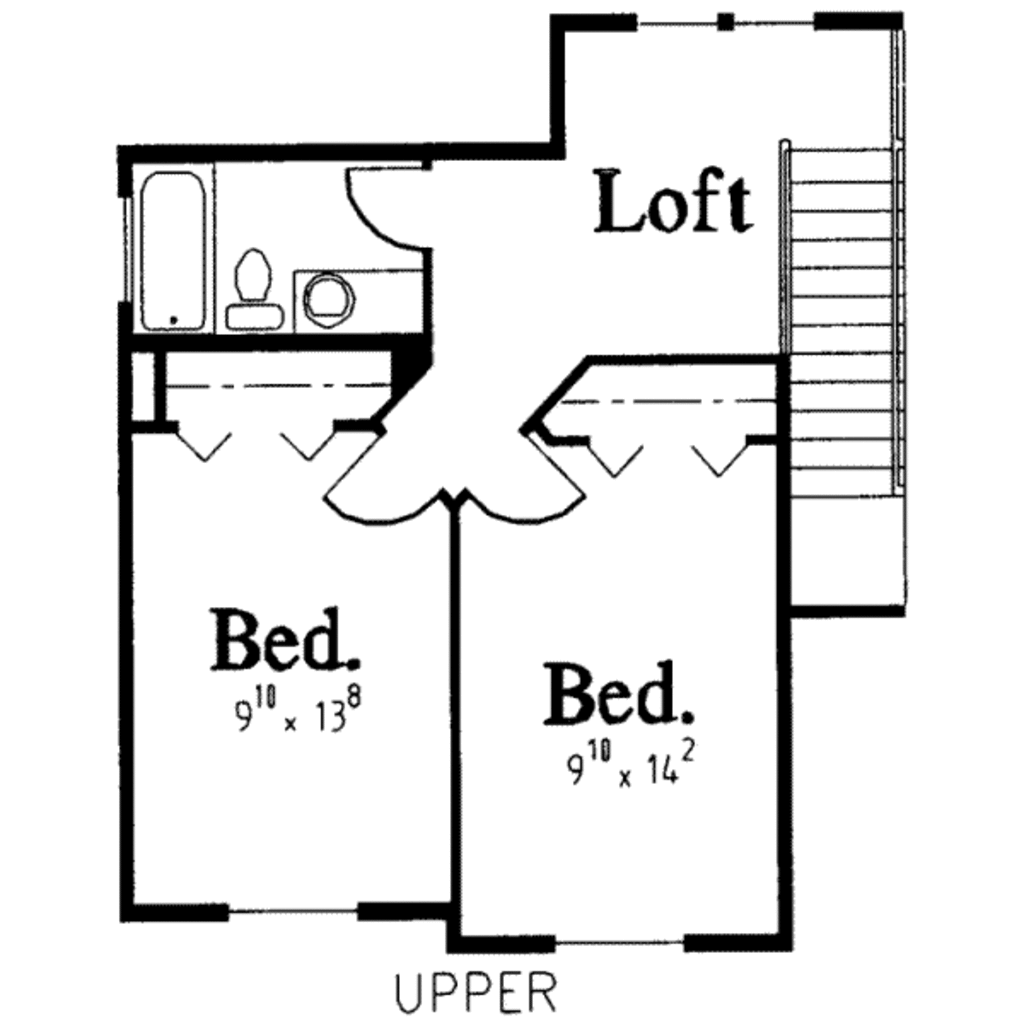door: (317, 430, 447, 525), (464, 430, 588, 524), (344, 153, 433, 253)
large_sink: (225, 238, 291, 332)
small_sink: (298, 271, 370, 335)
stairs: (770, 136, 917, 499)
tub: (133, 166, 214, 330)
window: (230, 896, 356, 927), (552, 935, 678, 961), (630, 3, 720, 39), (731, 5, 816, 42)
